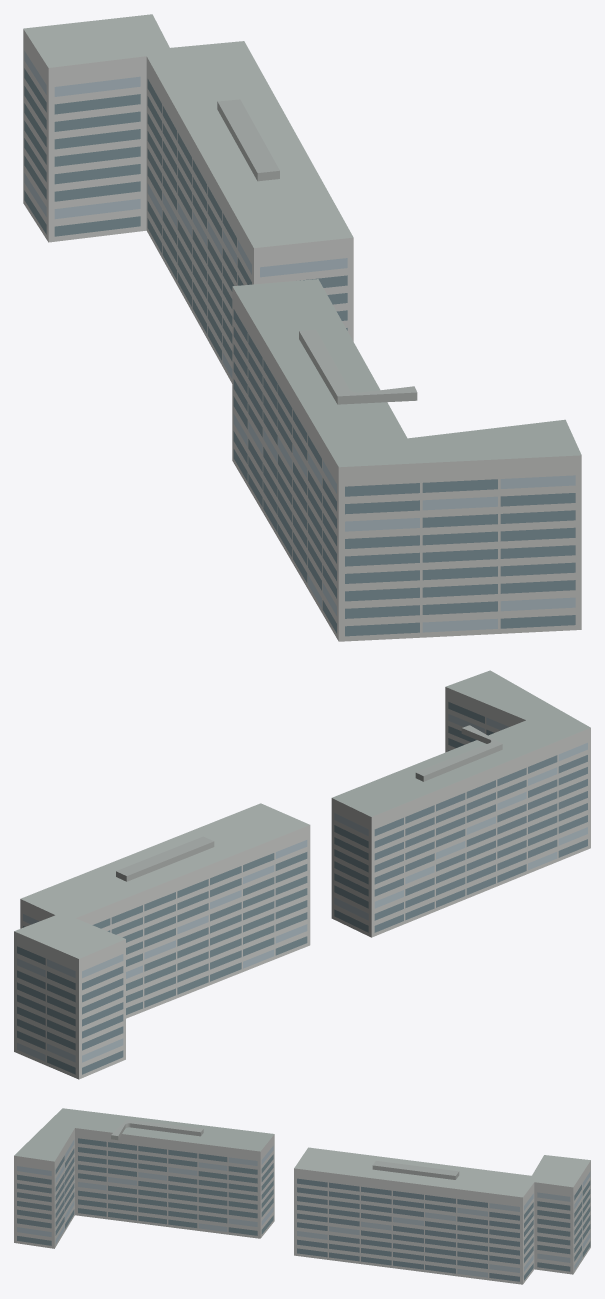
File: apt-a15785601.glb
3 views of the same model, one above another, from view 1: azimuth 30°, elevation 25°; view 2: azimuth 150°, elevation 25°; view 3: azimuth 270°, elevation 25° (orthographic). The views are drawn at different scales.
Visible parts, largest first — view 1: apt-a15785601; view 2: apt-a15785601; view 3: apt-a15785601.
Part boxes in pixels (left/top/right/bottom): apt-a15785601: left=23, top=14, right=581, bottom=641; apt-a15785601: left=14, top=670, right=590, bottom=1079; apt-a15785601: left=14, top=1108, right=590, bottom=1284.
Size of the model in its own units: 56.56 by 27 by 155.
